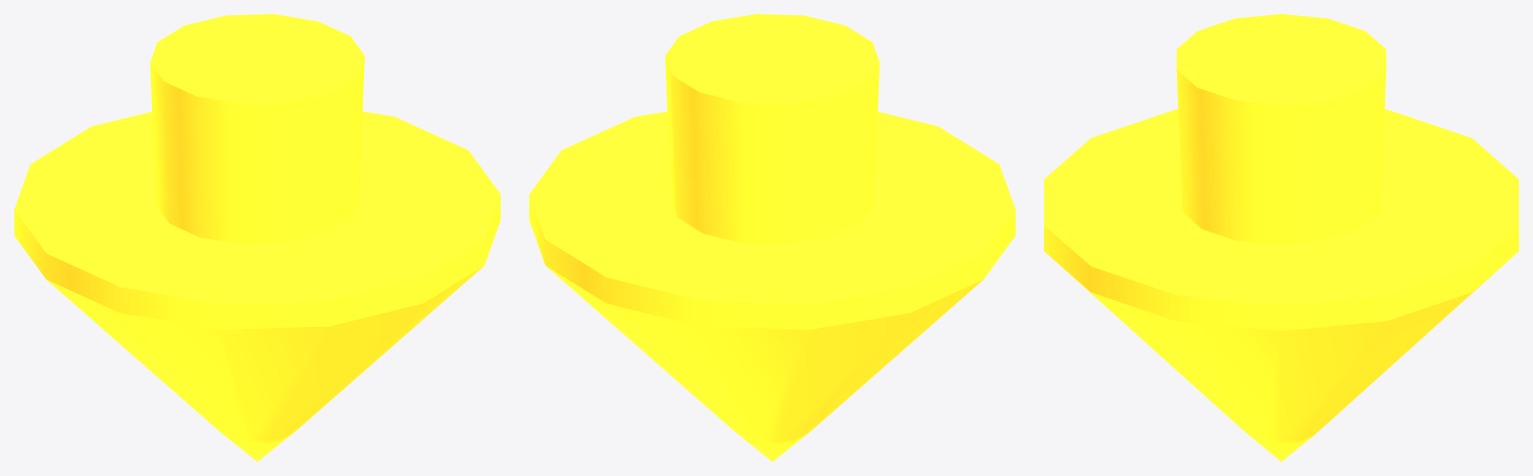
Rendered from arrow_marker.glb.
3 views of the same model, side by side, from view 1: azimuth 30°, elevation 25°; view 2: azimuth 150°, elevation 25°; view 3: azimuth 270°, elevation 25° (orthographic).
Parts seen in each view (by area): view 1: arrow_marker; view 2: arrow_marker; view 3: arrow_marker.
Part boxes in pixels (x1,y1,x2,y2): arrow_marker: (14,14,500,461); arrow_marker: (529,14,1015,461); arrow_marker: (1044,14,1518,461).
Size of the model in its own units: 0.34 by 0.31 by 0.3315.
